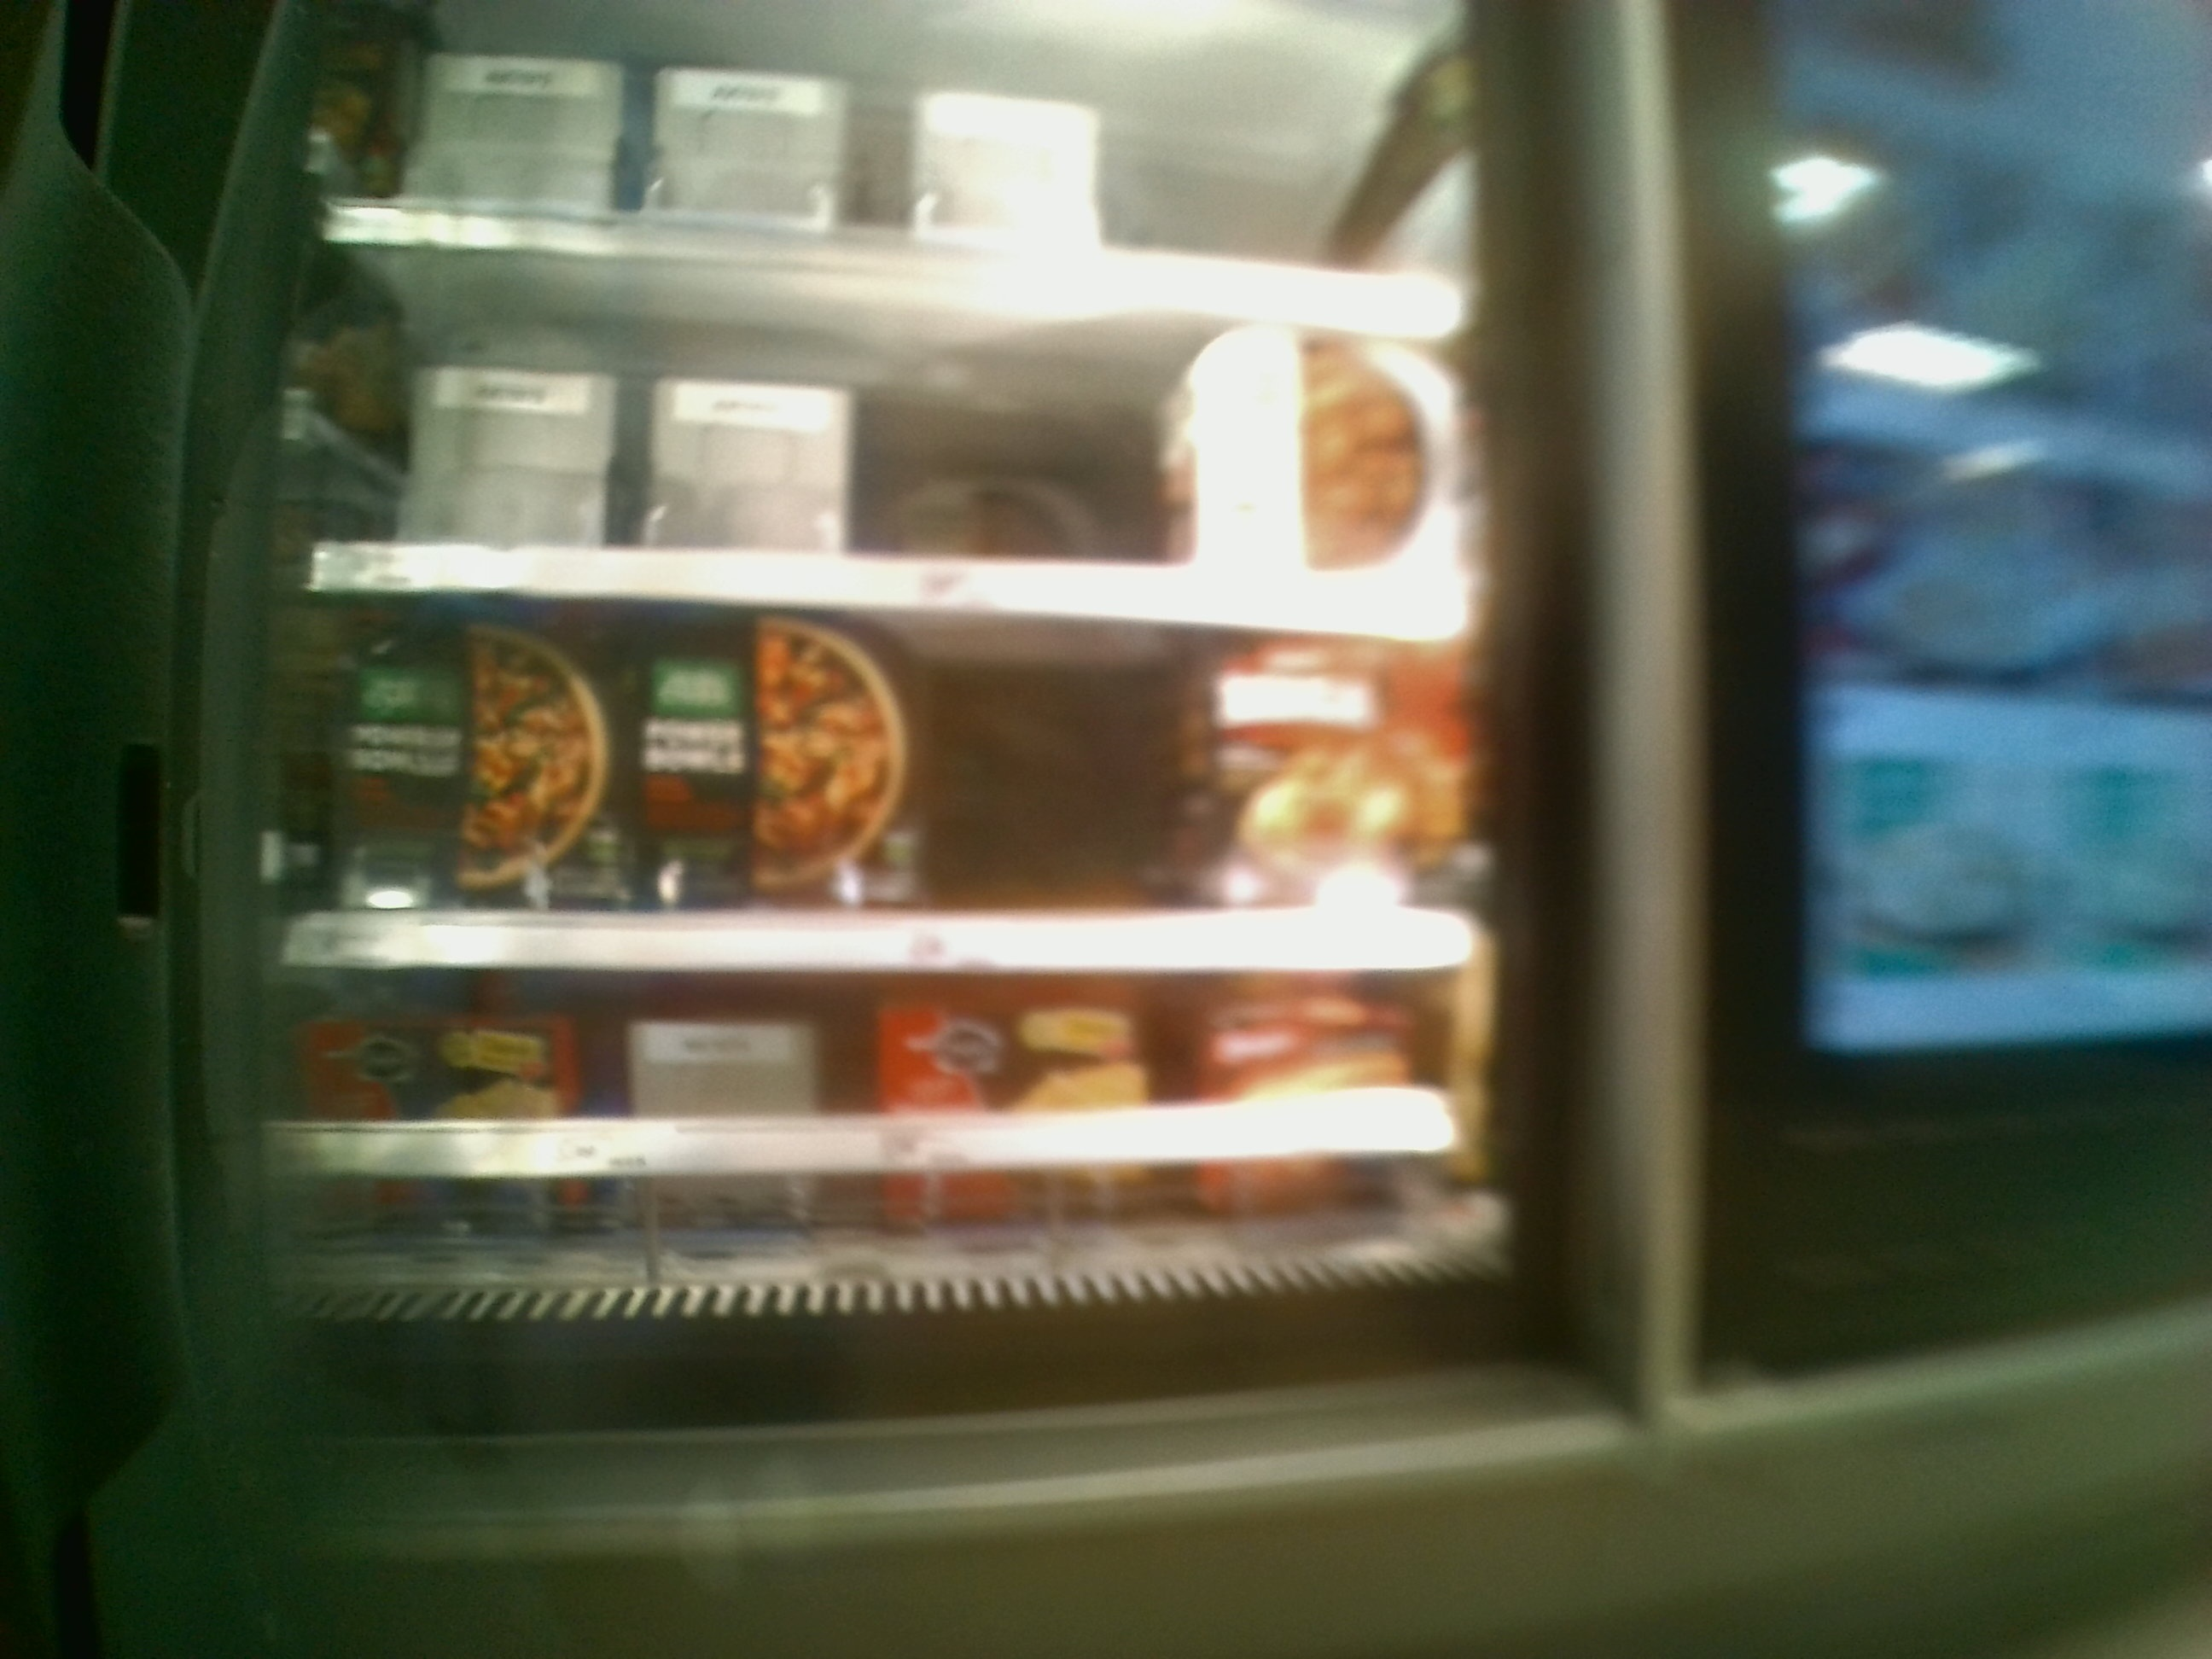Shelf: (284, 232, 1484, 633), (258, 974, 1526, 1333), (296, 596, 1480, 972)
